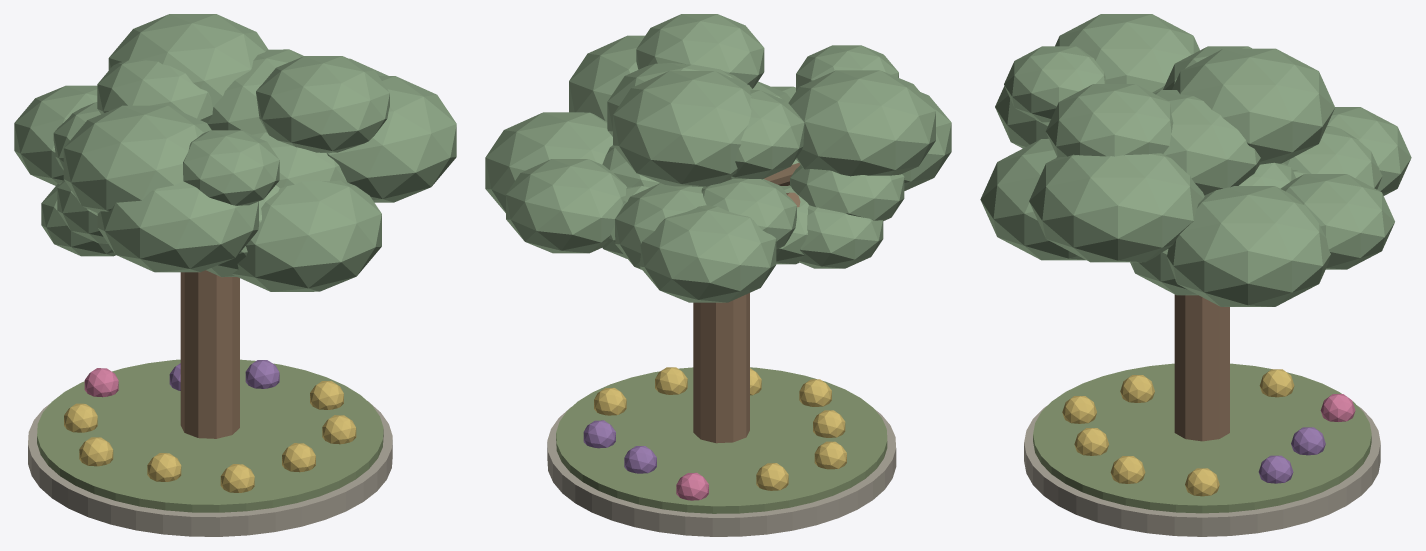
File: planter-tree-2.glb
3 renders of one model, left to right at view 1: azimuth 30°, elevation 25°; view 2: azimuth 150°, elevation 25°; view 3: azimuth 270°, elevation 25°, orthographic. The views are drawn at different scales.
Parts seen in each view (by area): view 1: world; view 2: world; view 3: world.
Part boxes in pixels (x1,y1,x2,y2): world: [14, 14, 456, 536]; world: [485, 14, 951, 536]; world: [980, 14, 1411, 536].
Bounding box in the file's own units: 1.15 × 1.16 × 1.11.
